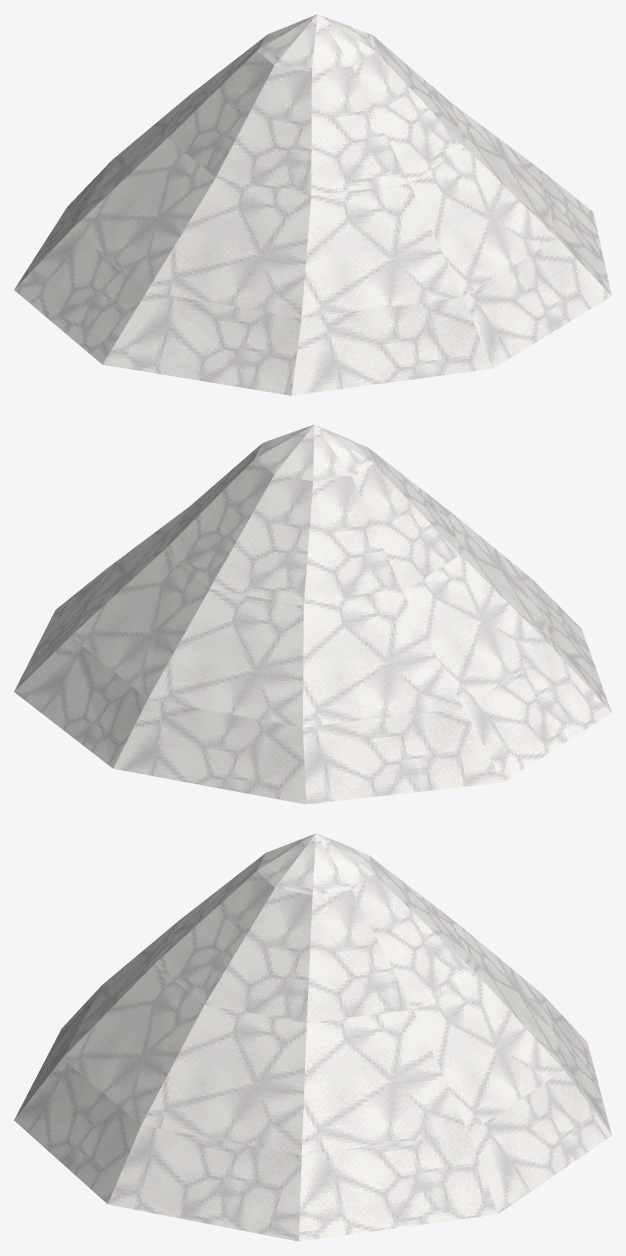
File: monton_sal.obj
3 views of the same model, one above another, from view 1: azimuth 30°, elevation 25°; view 2: azimuth 150°, elevation 25°; view 3: azimuth 270°, elevation 25° (orthographic). The views are drawn at different scales.
Parts seen in each view (by area): view 1: monton_sal; view 2: monton_sal; view 3: monton_sal.
Part boxes in pixels (left/top/right/bottom): monton_sal: left=14, top=14, right=611, bottom=395; monton_sal: left=14, top=424, right=611, bottom=804; monton_sal: left=14, top=833, right=611, bottom=1241.
Size of the model in its own units: 5.87 by 2.75 by 5.51.
1 material, 1 textured.
